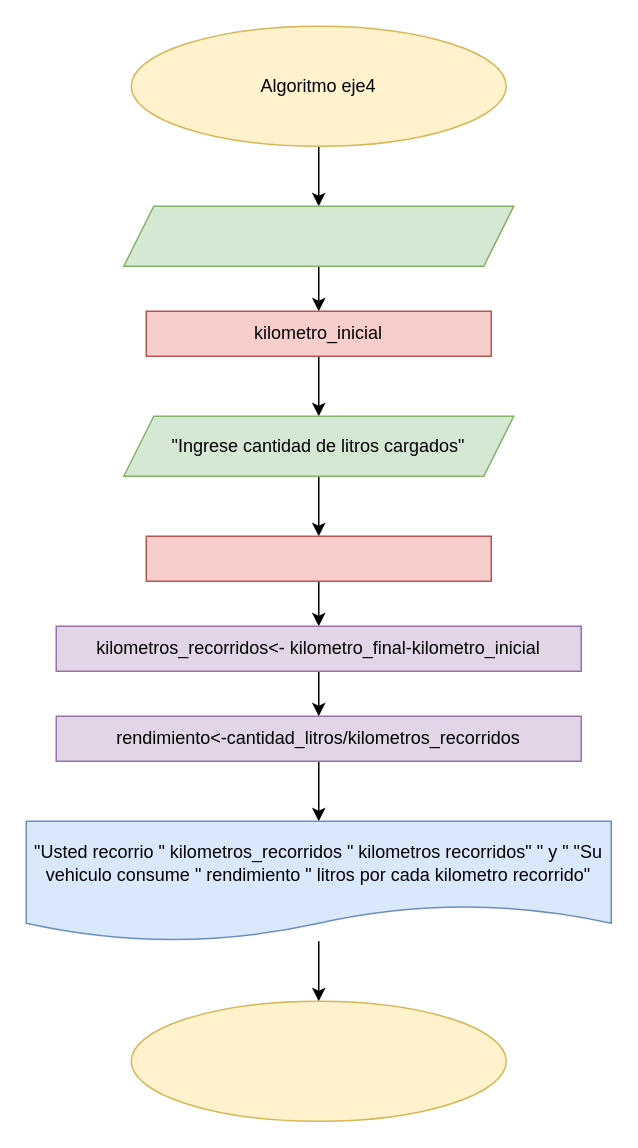
Image size: 638x1148. Some labels were removed from this diagram. Each missing label, with the centre of its shape:
"Ingresa kilometro_final": [318,235]
cantidad_litros: [318,558]
Fin_Algoritmo eje4: [318,1060]
